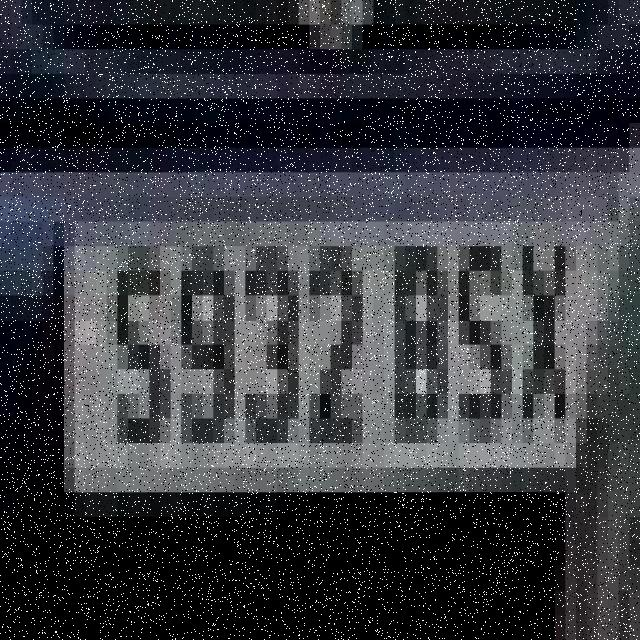licenseplate: (39, 91, 591, 542)
